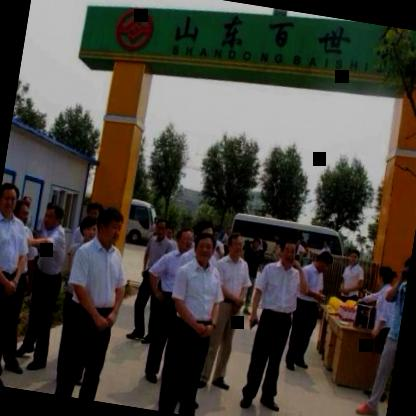head: (94, 204, 124, 249), (38, 199, 66, 232), (77, 212, 101, 248), (190, 230, 216, 262), (0, 179, 20, 218), (274, 235, 298, 266), (372, 261, 394, 290), (173, 224, 194, 254), (224, 230, 247, 257), (12, 198, 32, 227), (314, 249, 334, 274), (396, 255, 411, 285), (151, 217, 168, 240), (344, 246, 361, 268), (164, 228, 174, 244)
